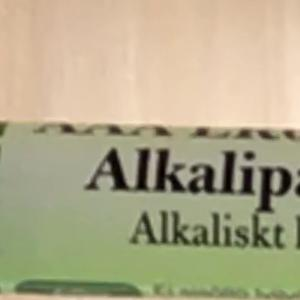ALK: (75, 138, 161, 202)
